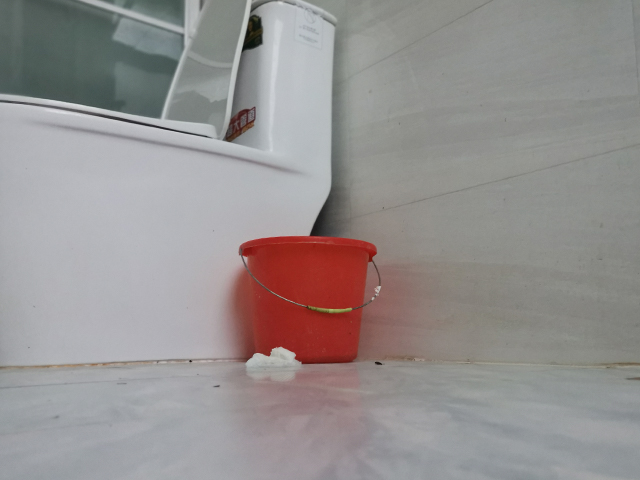closestool: (1, 1, 339, 370)
